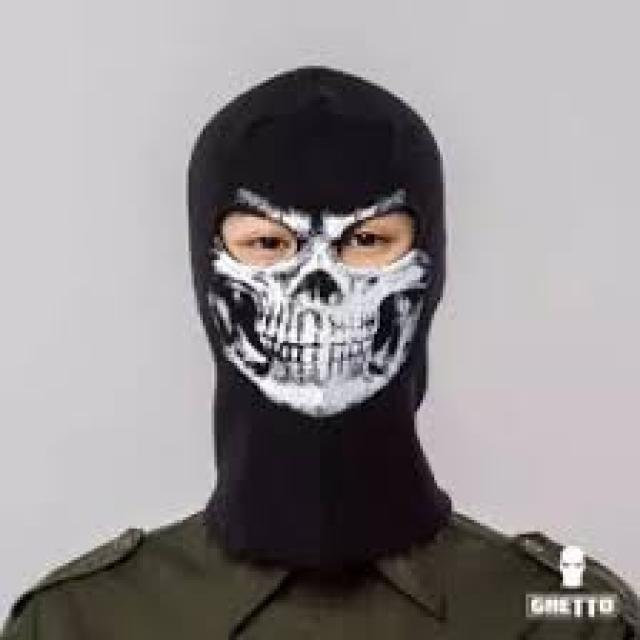6_pasamontana: (185, 66, 454, 568)
